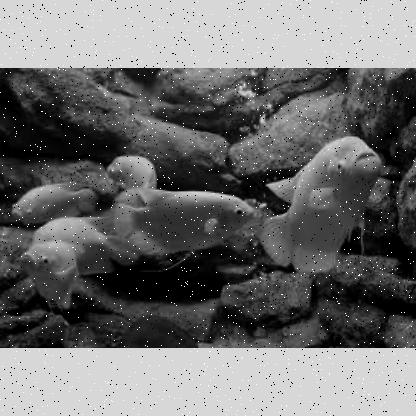gurame: (268, 138, 376, 274), (121, 184, 254, 262), (19, 240, 86, 310), (6, 180, 94, 224)
